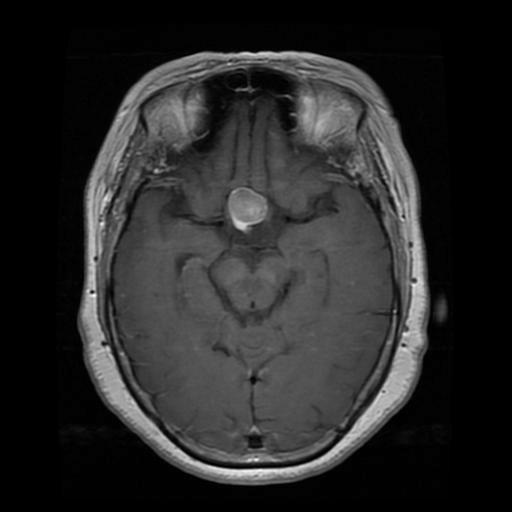Tumour-Pituitary: (227, 187, 272, 234)
